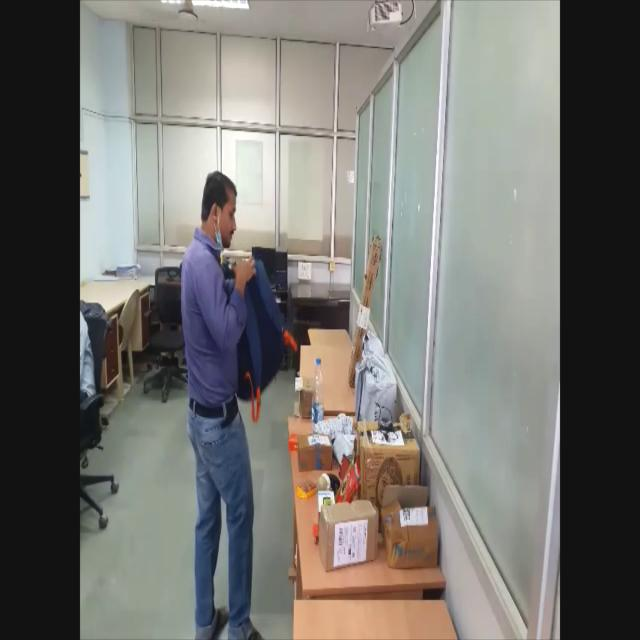shoplifting: (170, 166, 300, 640)
